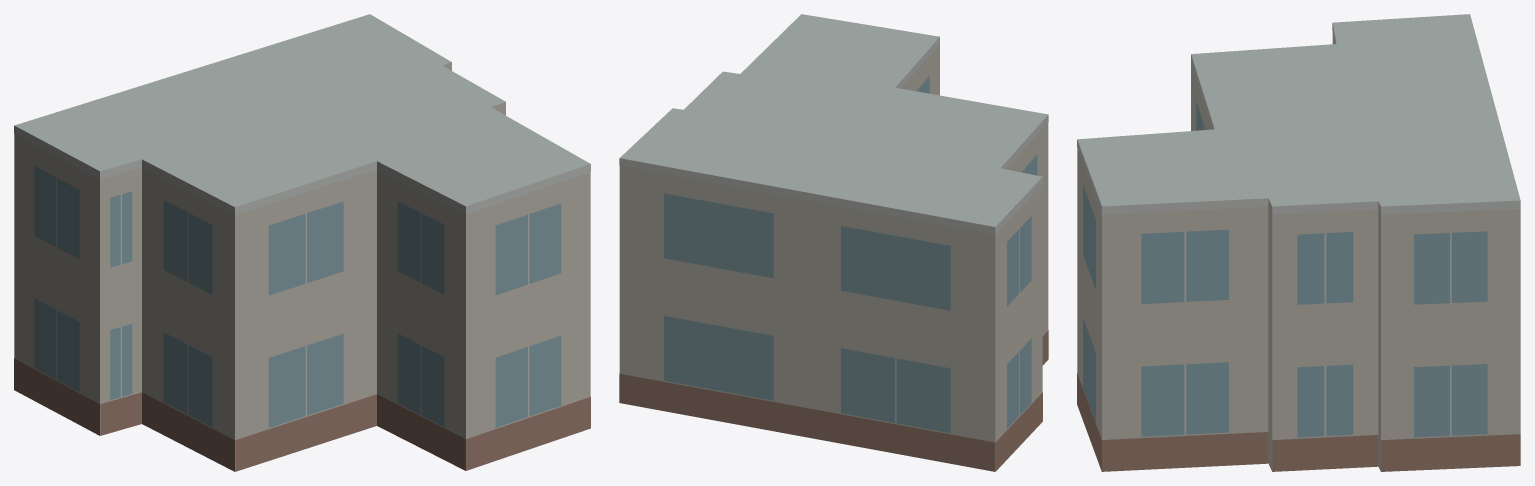
File: survey-upis-32581624.glb
The picture shows the model from 3 angles, left to right: view 1: azimuth 30°, elevation 25°; view 2: azimuth 150°, elevation 25°; view 3: azimuth 270°, elevation 25°; orthographic projection. The views are drawn at different scales.
Parts seen in each view (by area): view 1: survey-upis-32581624.tmp; view 2: survey-upis-32581624.tmp; view 3: survey-upis-32581624.tmp.
Part boxes in pixels (x1,y1,x2,y2): survey-upis-32581624.tmp: (14, 14, 590, 471); survey-upis-32581624.tmp: (619, 14, 1048, 471); survey-upis-32581624.tmp: (1077, 14, 1520, 471).
Size of the model in its own units: 12.15 by 7.8 by 11.82.
